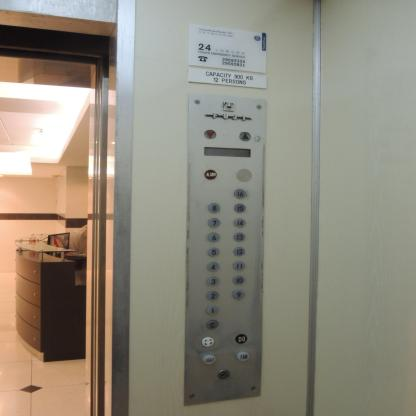1: (206, 305, 219, 316)
10: (232, 275, 245, 285)
11: (233, 260, 245, 270)
12: (233, 247, 245, 256)
13: (233, 232, 245, 242)
14: (234, 218, 245, 228)
15: (234, 203, 246, 213)
16: (234, 189, 246, 198)
2: (206, 290, 219, 301)
3: (206, 276, 220, 286)
4: (206, 261, 219, 272)
5: (207, 246, 220, 258)
6: (207, 232, 220, 242)
7: (207, 218, 220, 228)
8: (208, 203, 220, 213)
9: (232, 290, 244, 300)
C: (206, 319, 218, 330)
DO: (235, 333, 248, 344)
down: (204, 128, 216, 140)
empty: (235, 168, 252, 183)
keyhole: (217, 369, 230, 380)
text_alarm bell: (203, 169, 217, 181)
text_fan: (235, 350, 250, 360)
text_light: (202, 353, 216, 365)
unknown: (223, 101, 236, 112), (201, 336, 214, 347)
up: (239, 131, 251, 142)
